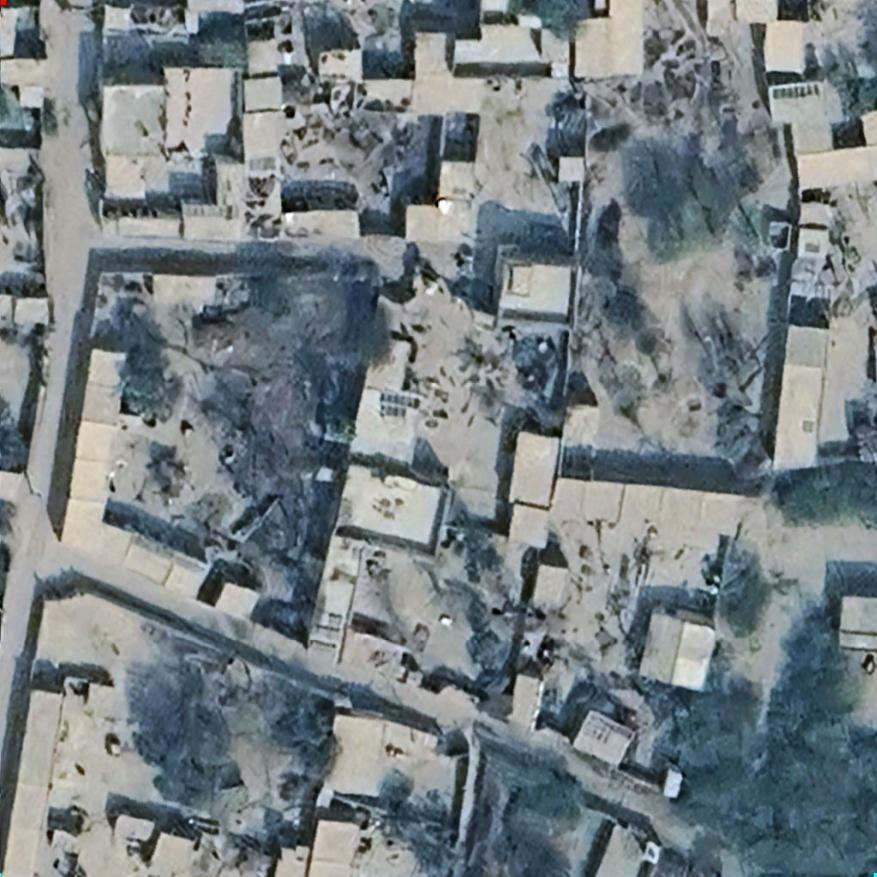Solarpanel: (584, 708, 640, 744), (771, 79, 822, 104), (578, 722, 613, 747), (379, 391, 420, 410), (378, 404, 405, 418)
